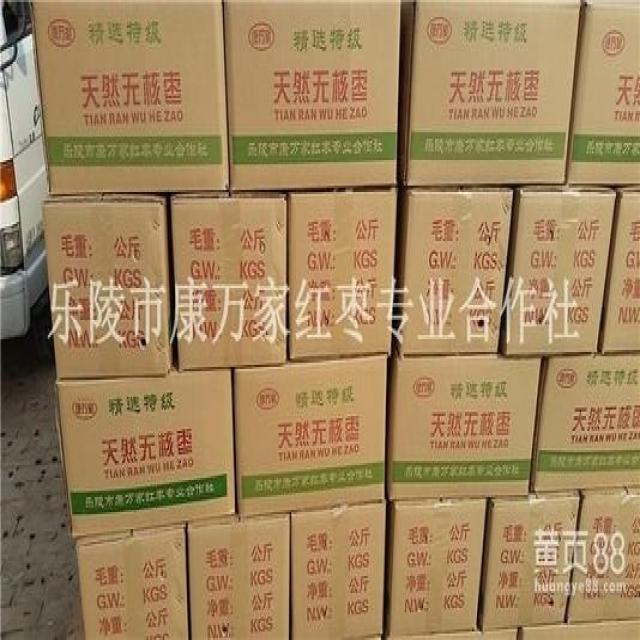box: (31, 1, 230, 193), (397, 2, 581, 189), (224, 2, 399, 195), (55, 356, 235, 539), (39, 191, 175, 379), (235, 353, 386, 512), (383, 355, 545, 499), (167, 191, 288, 371), (495, 187, 618, 358), (397, 187, 514, 353), (288, 191, 398, 361), (531, 350, 639, 492), (383, 495, 488, 637), (563, 2, 639, 187), (73, 519, 191, 638), (478, 493, 581, 629), (185, 509, 293, 636), (290, 501, 383, 638), (562, 491, 638, 618), (600, 186, 639, 355), (520, 620, 639, 638), (385, 625, 519, 638)
